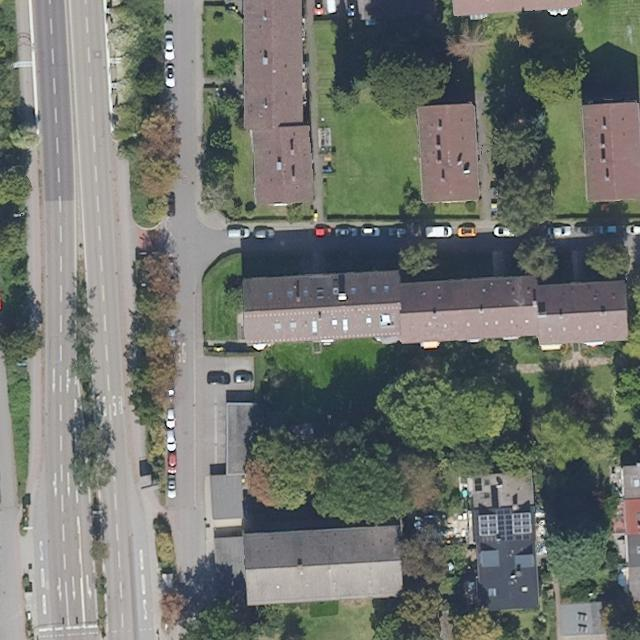PV: (497, 510, 531, 541)
